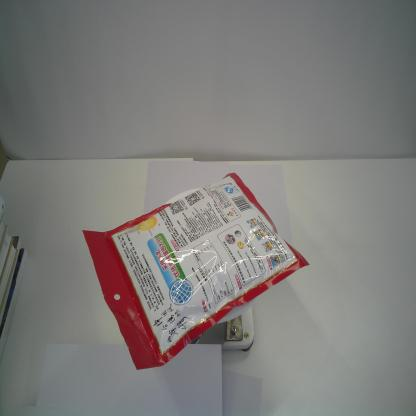Instant Drink: (82, 171, 311, 372)
